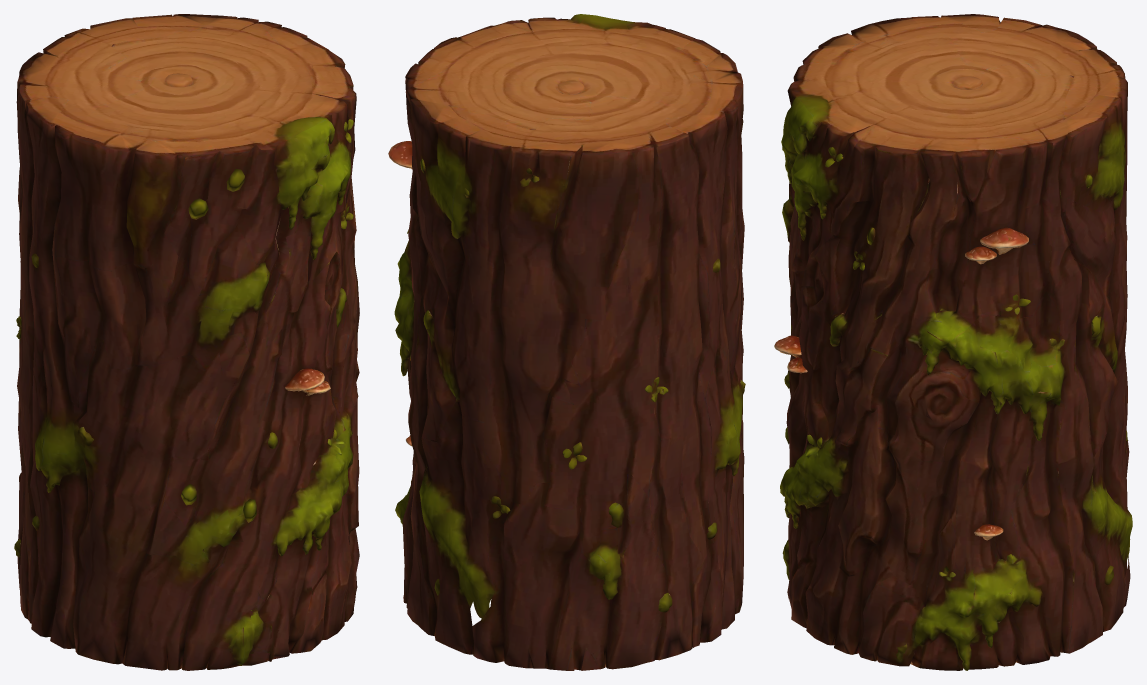
The model's file is tree_trunk.glb.
3 renders of one model, left to right at view 1: azimuth 30°, elevation 25°; view 2: azimuth 150°, elevation 25°; view 3: azimuth 270°, elevation 25°, orthographic.
Size of what is drawn, in the model's own units: 0.6386 by 1 by 0.6279.
1 material, 1 textured.
